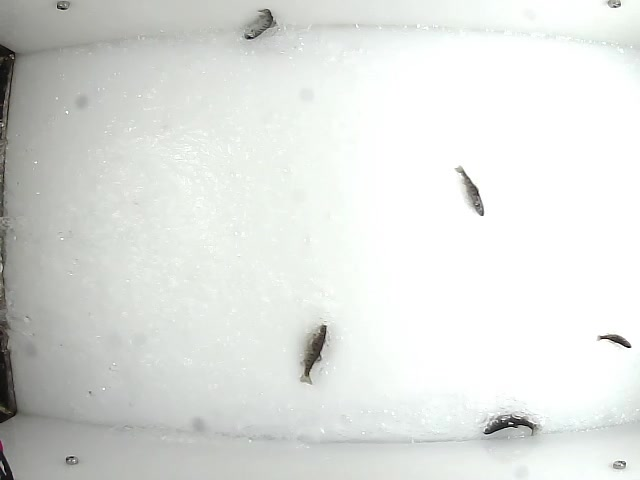fish: (452, 164, 487, 218), (298, 324, 328, 387), (482, 410, 539, 438), (244, 5, 276, 40), (595, 332, 635, 351)
